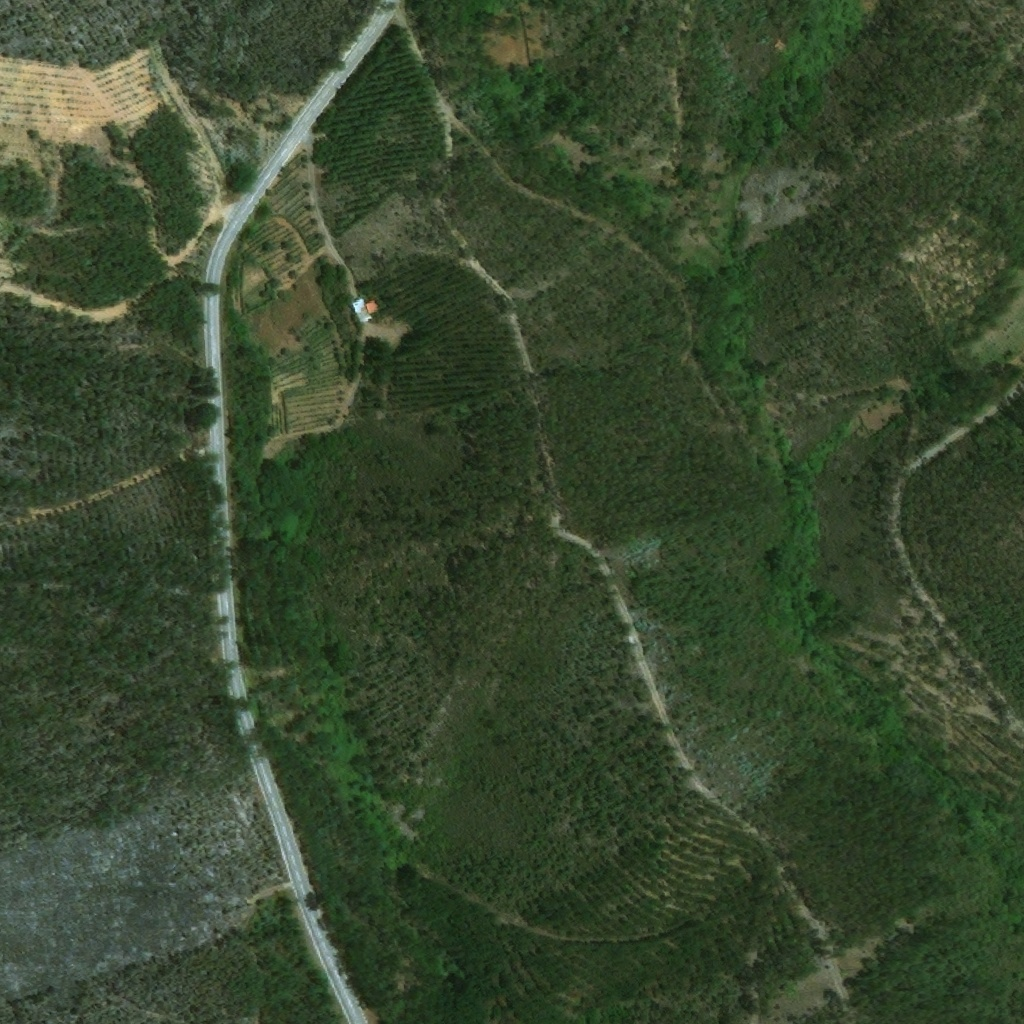0 no-damage: (349, 294, 380, 324)
